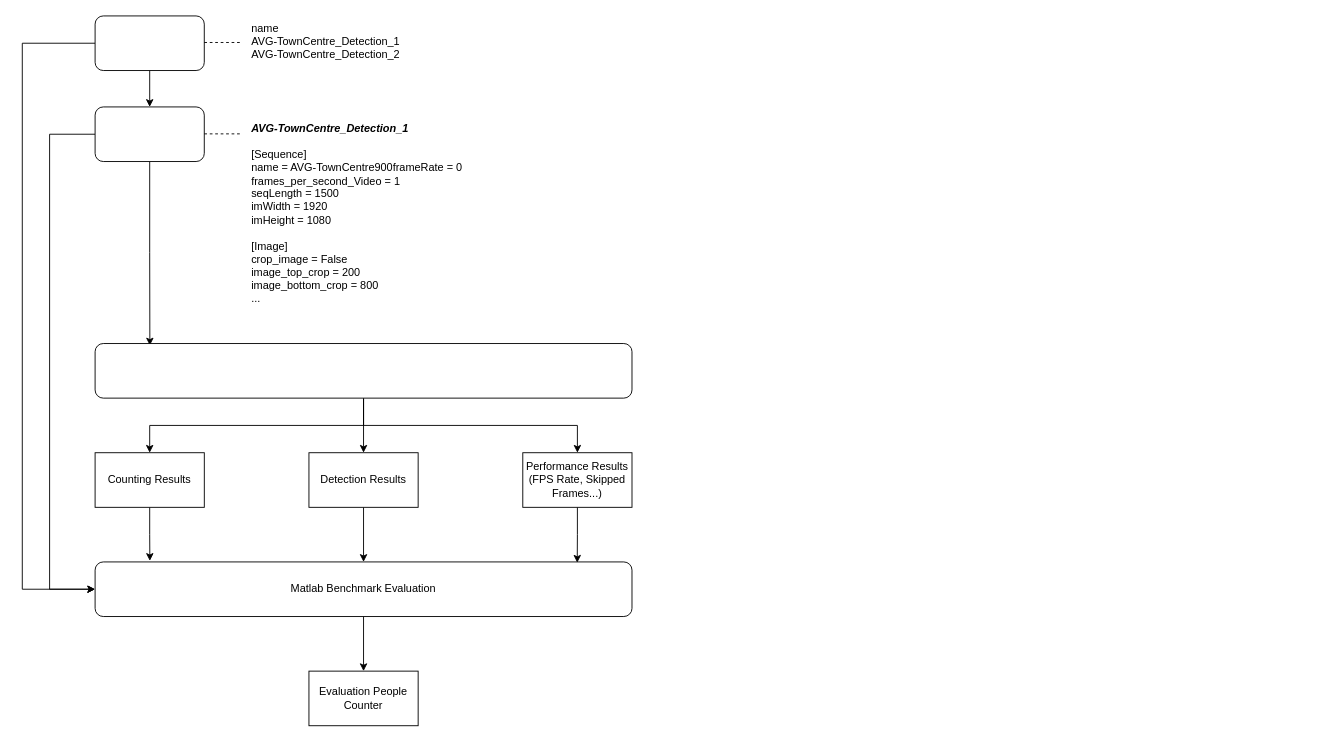
This 1321x742 diagram has some shape labels left out. Each missing label, with the centre of its shape:
people_counter.py: the point at 363,370
SequInfo: the point at 149,134
SequMap: the point at 149,43
